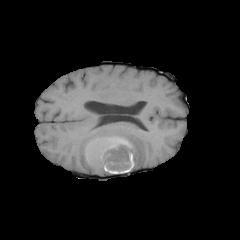glioma: (78, 125, 147, 175)
